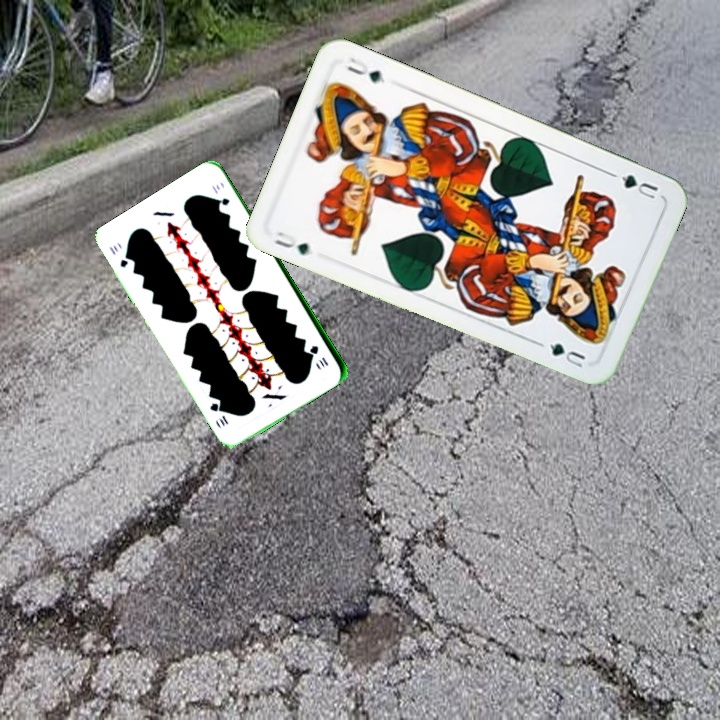G10: (105, 241, 131, 271), (307, 341, 331, 370)
GU: (607, 169, 661, 202), (270, 227, 312, 258)
